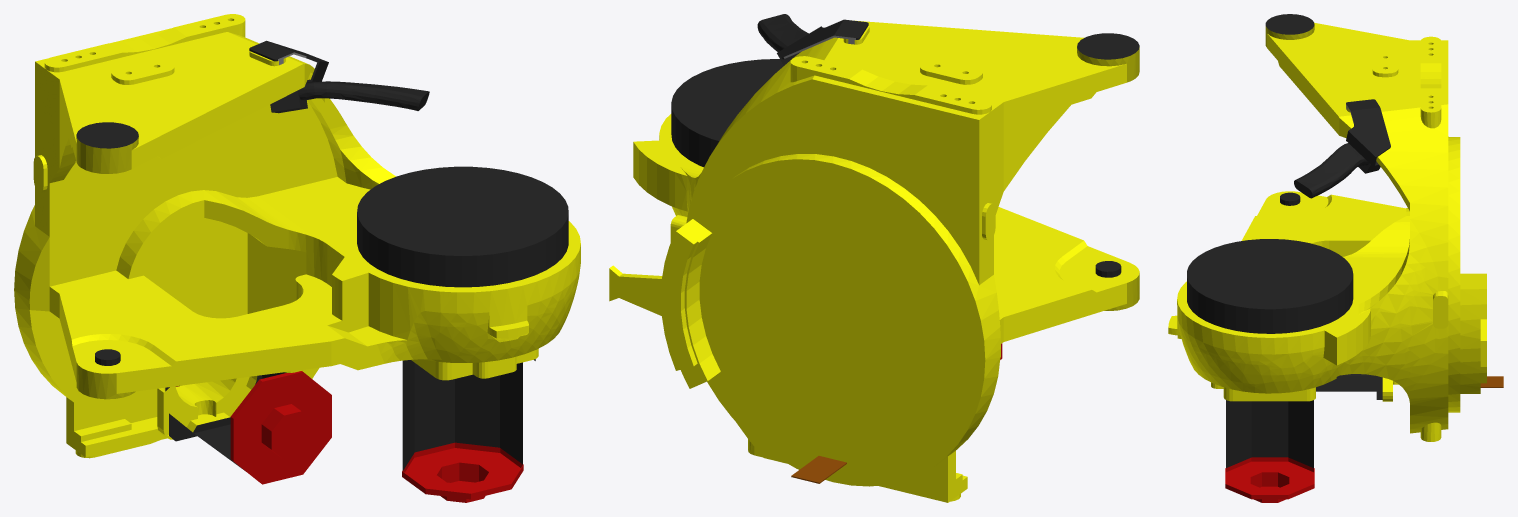
3 renders of one model, left to right at view 1: azimuth 30°, elevation 25°; view 2: azimuth 150°, elevation 25°; view 3: azimuth 270°, elevation 25°, orthographic. The views are drawn at different scales.
Parts seen in each view (by area): view 1: node; view 2: node; view 3: node.
Part boxes in pixels (bbox=[...]): node: bbox=[14, 14, 580, 502]; node: bbox=[609, 14, 1139, 502]; node: bbox=[1168, 14, 1503, 502].
Bounding box in the file's own units: 836 × 729 × 653.
